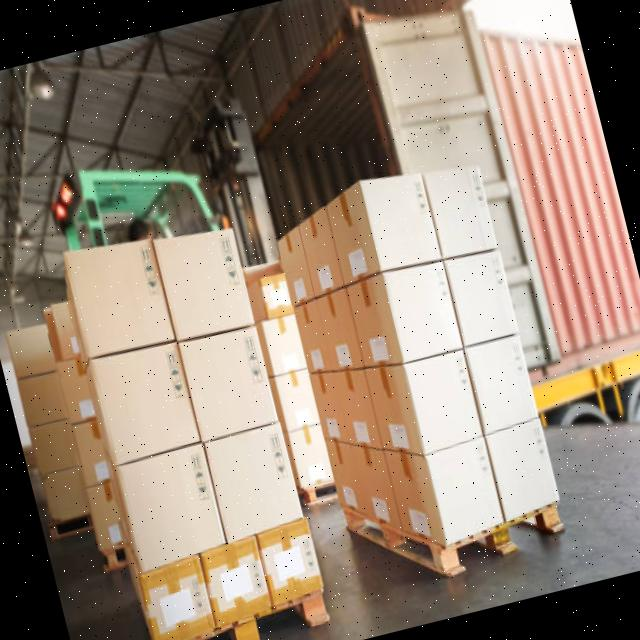Wooden-Pallets: (340, 499, 565, 580), (193, 592, 333, 640)
